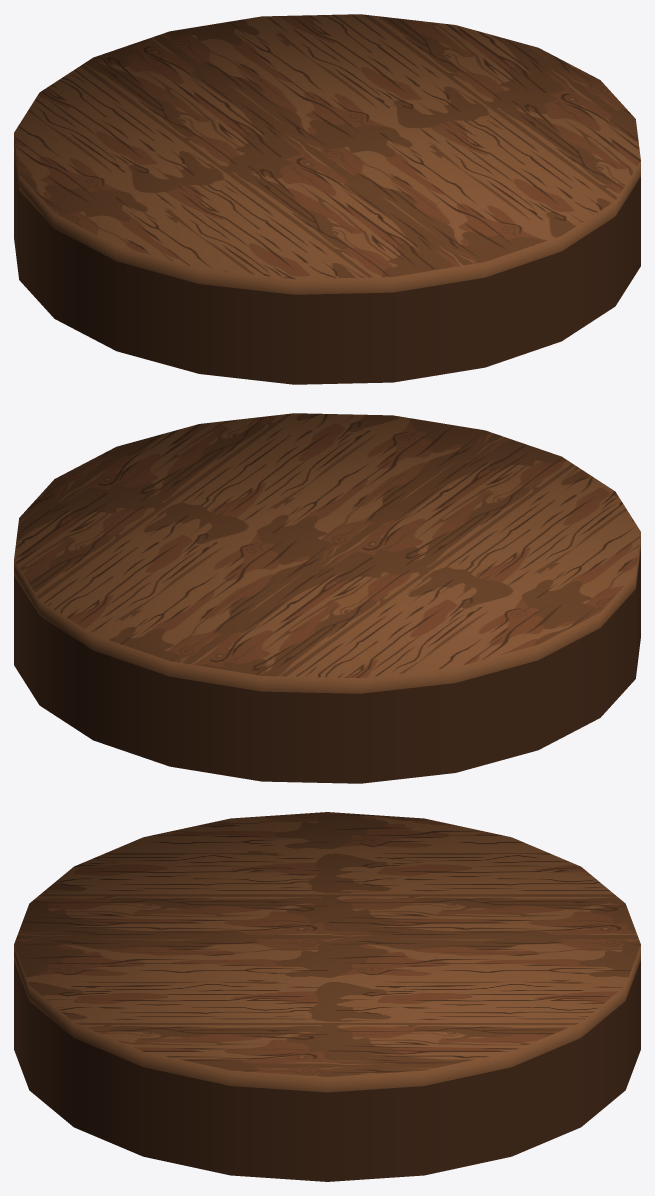
File: platform.fbx
3 renders of one model, top to bottom at view 1: azimuth 30°, elevation 25°; view 2: azimuth 150°, elevation 25°; view 3: azimuth 270°, elevation 25°, orthographic.
Parts seen in each view (by area): view 1: platform; view 2: platform; view 3: platform.
Part boxes in pixels (box(x1,y1,x2,y2)): platform: box(14, 14, 640, 384); platform: box(14, 413, 640, 783); platform: box(14, 812, 640, 1181).
Bounding box in the file's own units: 102 × 18.89 × 102.
